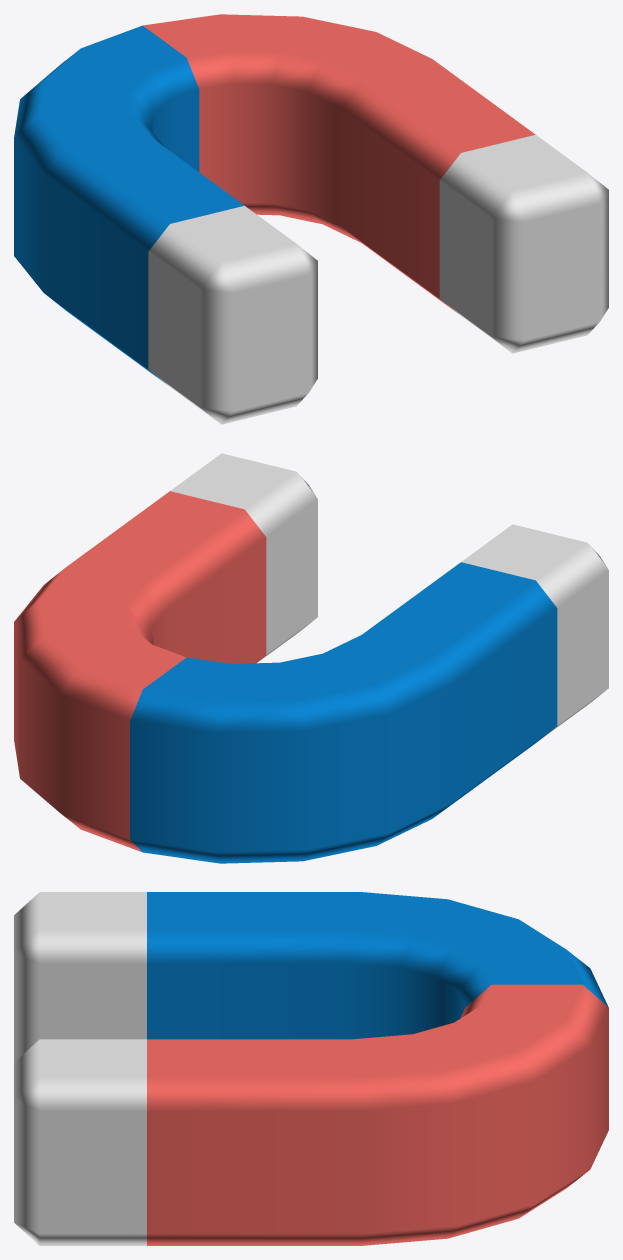
File: Magnet.fbx
3 views of the same model, one above another, from view 1: azimuth 30°, elevation 25°; view 2: azimuth 150°, elevation 25°; view 3: azimuth 270°, elevation 25° (orthographic). The views are drawn at different scales.
Parts seen in each view (by area): view 1: Magnet; view 2: Magnet; view 3: Magnet.
Boxes of the visible parts, x1,y1,x2,y2 form: Magnet: [14, 14, 608, 424]; Magnet: [14, 453, 608, 863]; Magnet: [14, 892, 608, 1245].
Size of the model in its own units: 1.52 by 0.5789 by 1.85.
